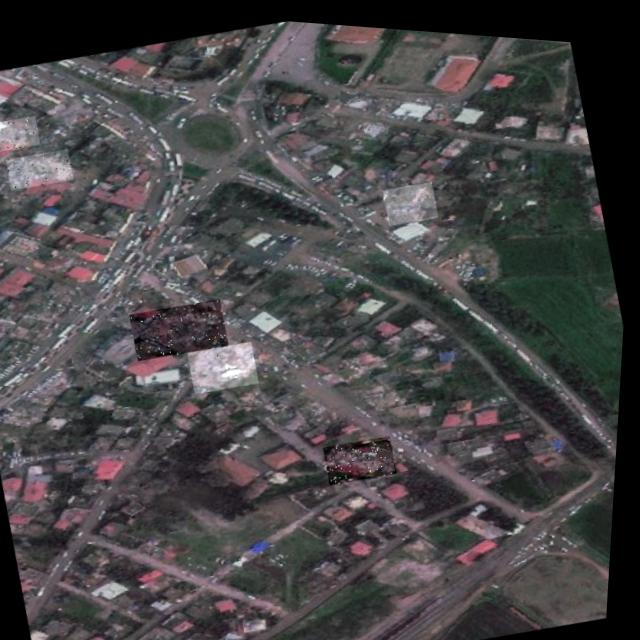Rubble: (130, 289, 234, 362), (189, 333, 265, 393), (326, 424, 403, 482), (6, 143, 77, 192), (382, 171, 442, 221), (0, 111, 43, 153)
